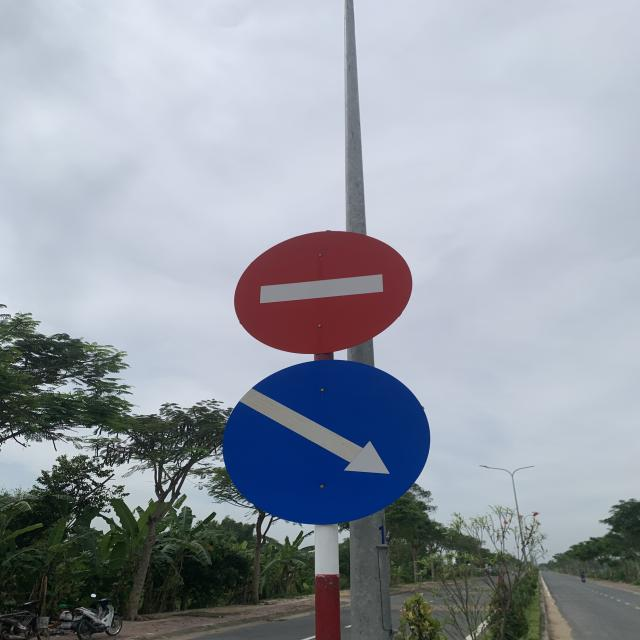Cam_Di_Nguoc_Chieu: (234, 229, 415, 355)
Chi_Huong_Di_Phai: (222, 359, 433, 527)
